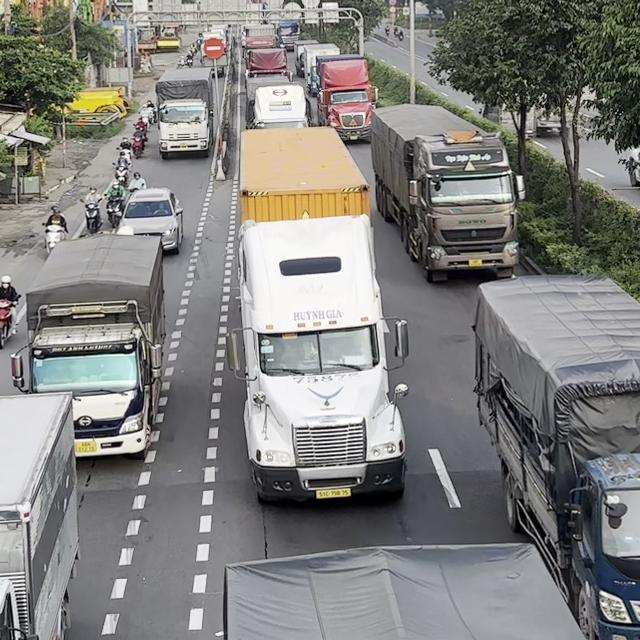car: (114, 186, 183, 254)
motorcycle: (0, 295, 21, 349), (41, 221, 67, 254), (80, 198, 103, 234), (104, 194, 124, 228)
truck: (226, 125, 411, 504), (470, 272, 639, 639), (9, 232, 166, 459), (369, 102, 526, 283), (0, 390, 80, 639), (314, 53, 378, 142), (157, 67, 212, 159), (248, 83, 311, 129), (243, 48, 292, 104), (275, 19, 300, 50)
